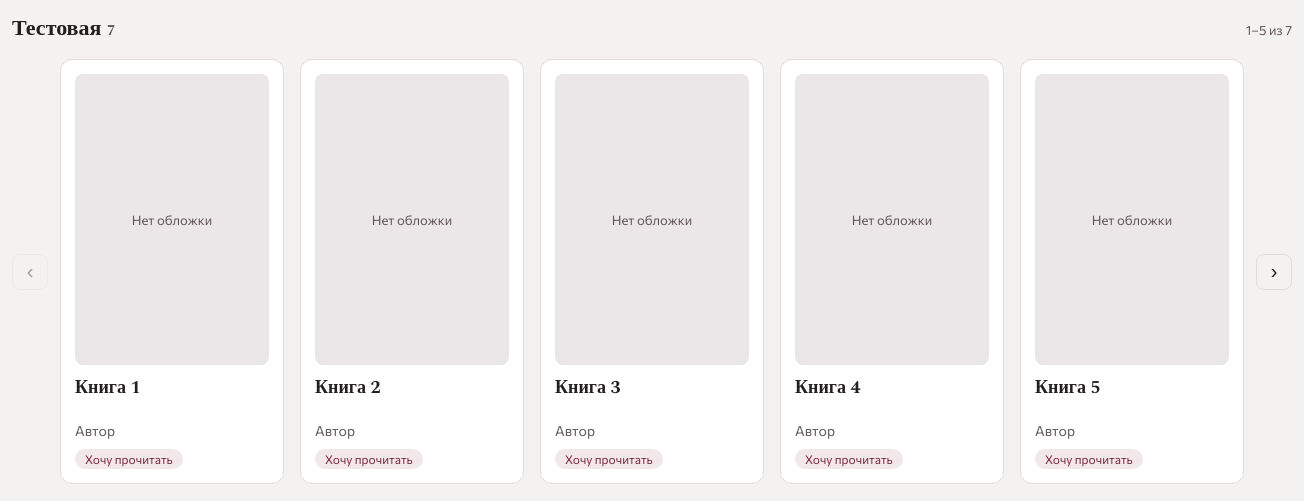
it: листание полки: стрелки и границы
The image size is (1304, 501).
Check: the heading "Книга 1" is shown, box [75,374,141,401]
Check: the text "Книга 6" is not shown
Click the button named "Вперёд" at (1274, 272), box [1256,254,1292,290]
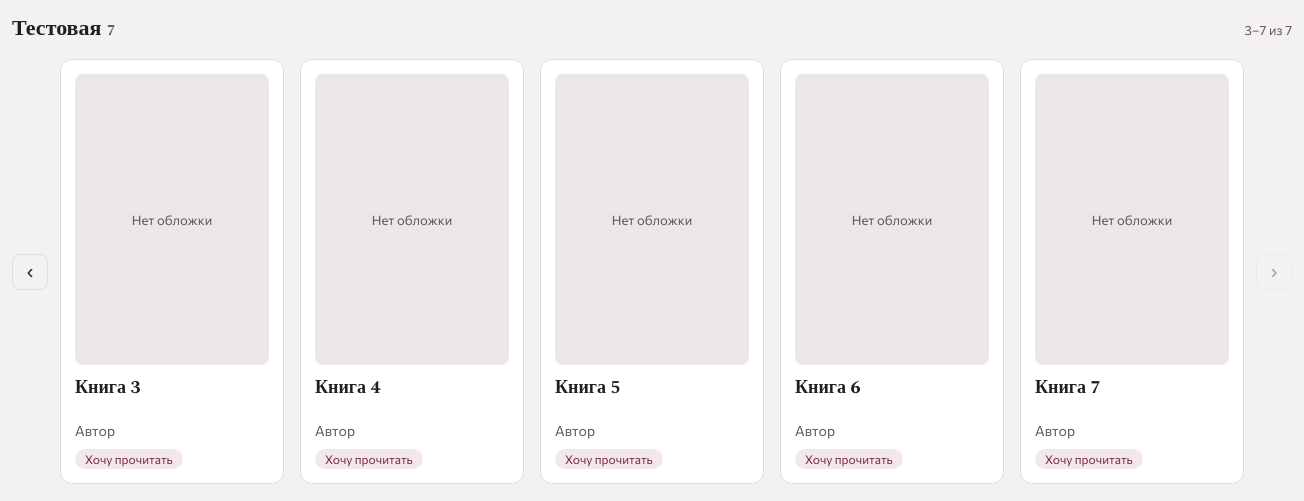
Check: the heading "Книга 6" is shown, box [795,374,861,401]
Check: the heading "Книга 7" is shown, box [1035,374,1101,401]
Check: the button "Книга 1" is gone
Click the button named "Назад" at (30, 272), box [12,254,48,290]
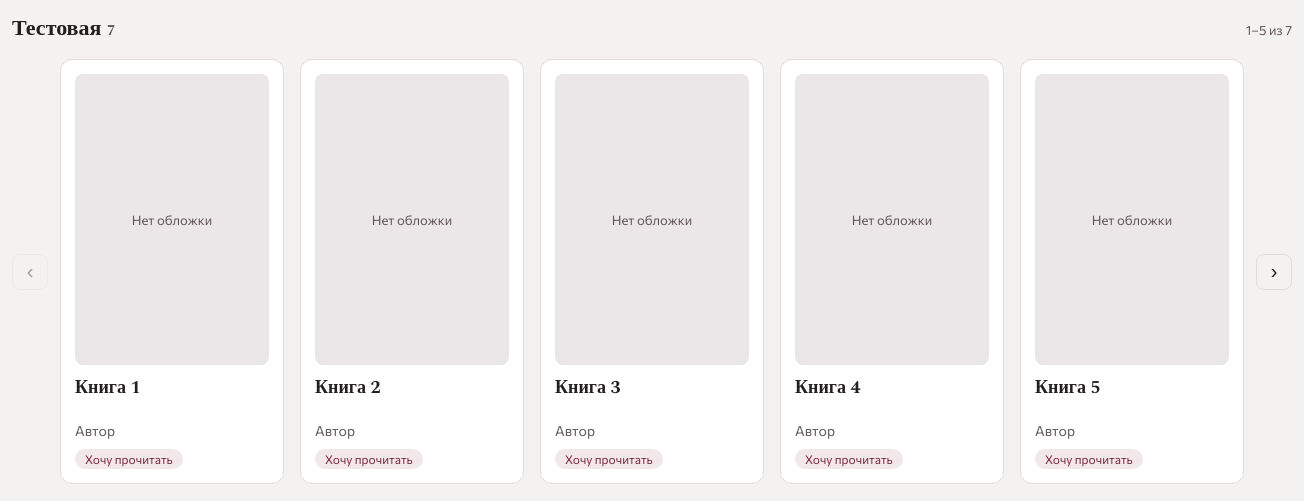
Check: the heading "Книга 1" is shown, box [75,374,141,401]
